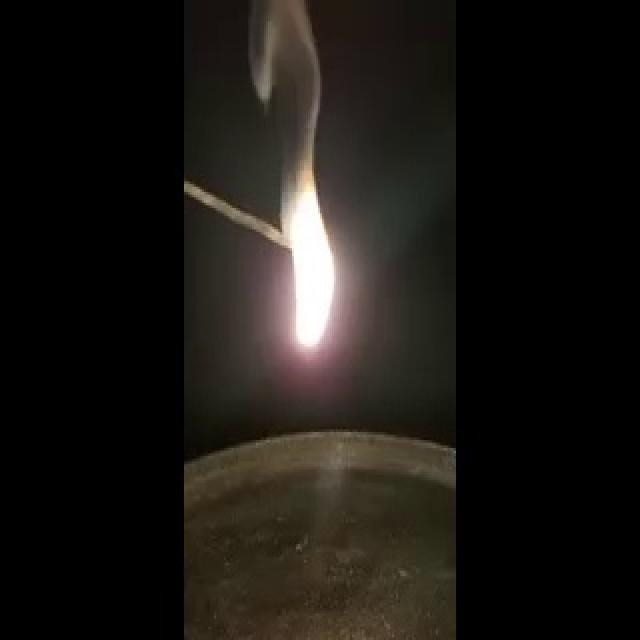fire: (271, 112, 353, 379)
